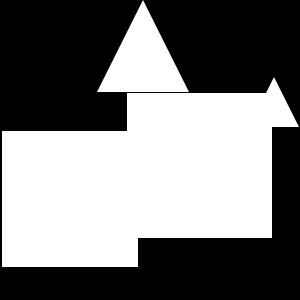circle: (127, 93, 272, 238), (2, 131, 138, 267)
triangle: (97, 0, 189, 92), (249, 77, 299, 127)
